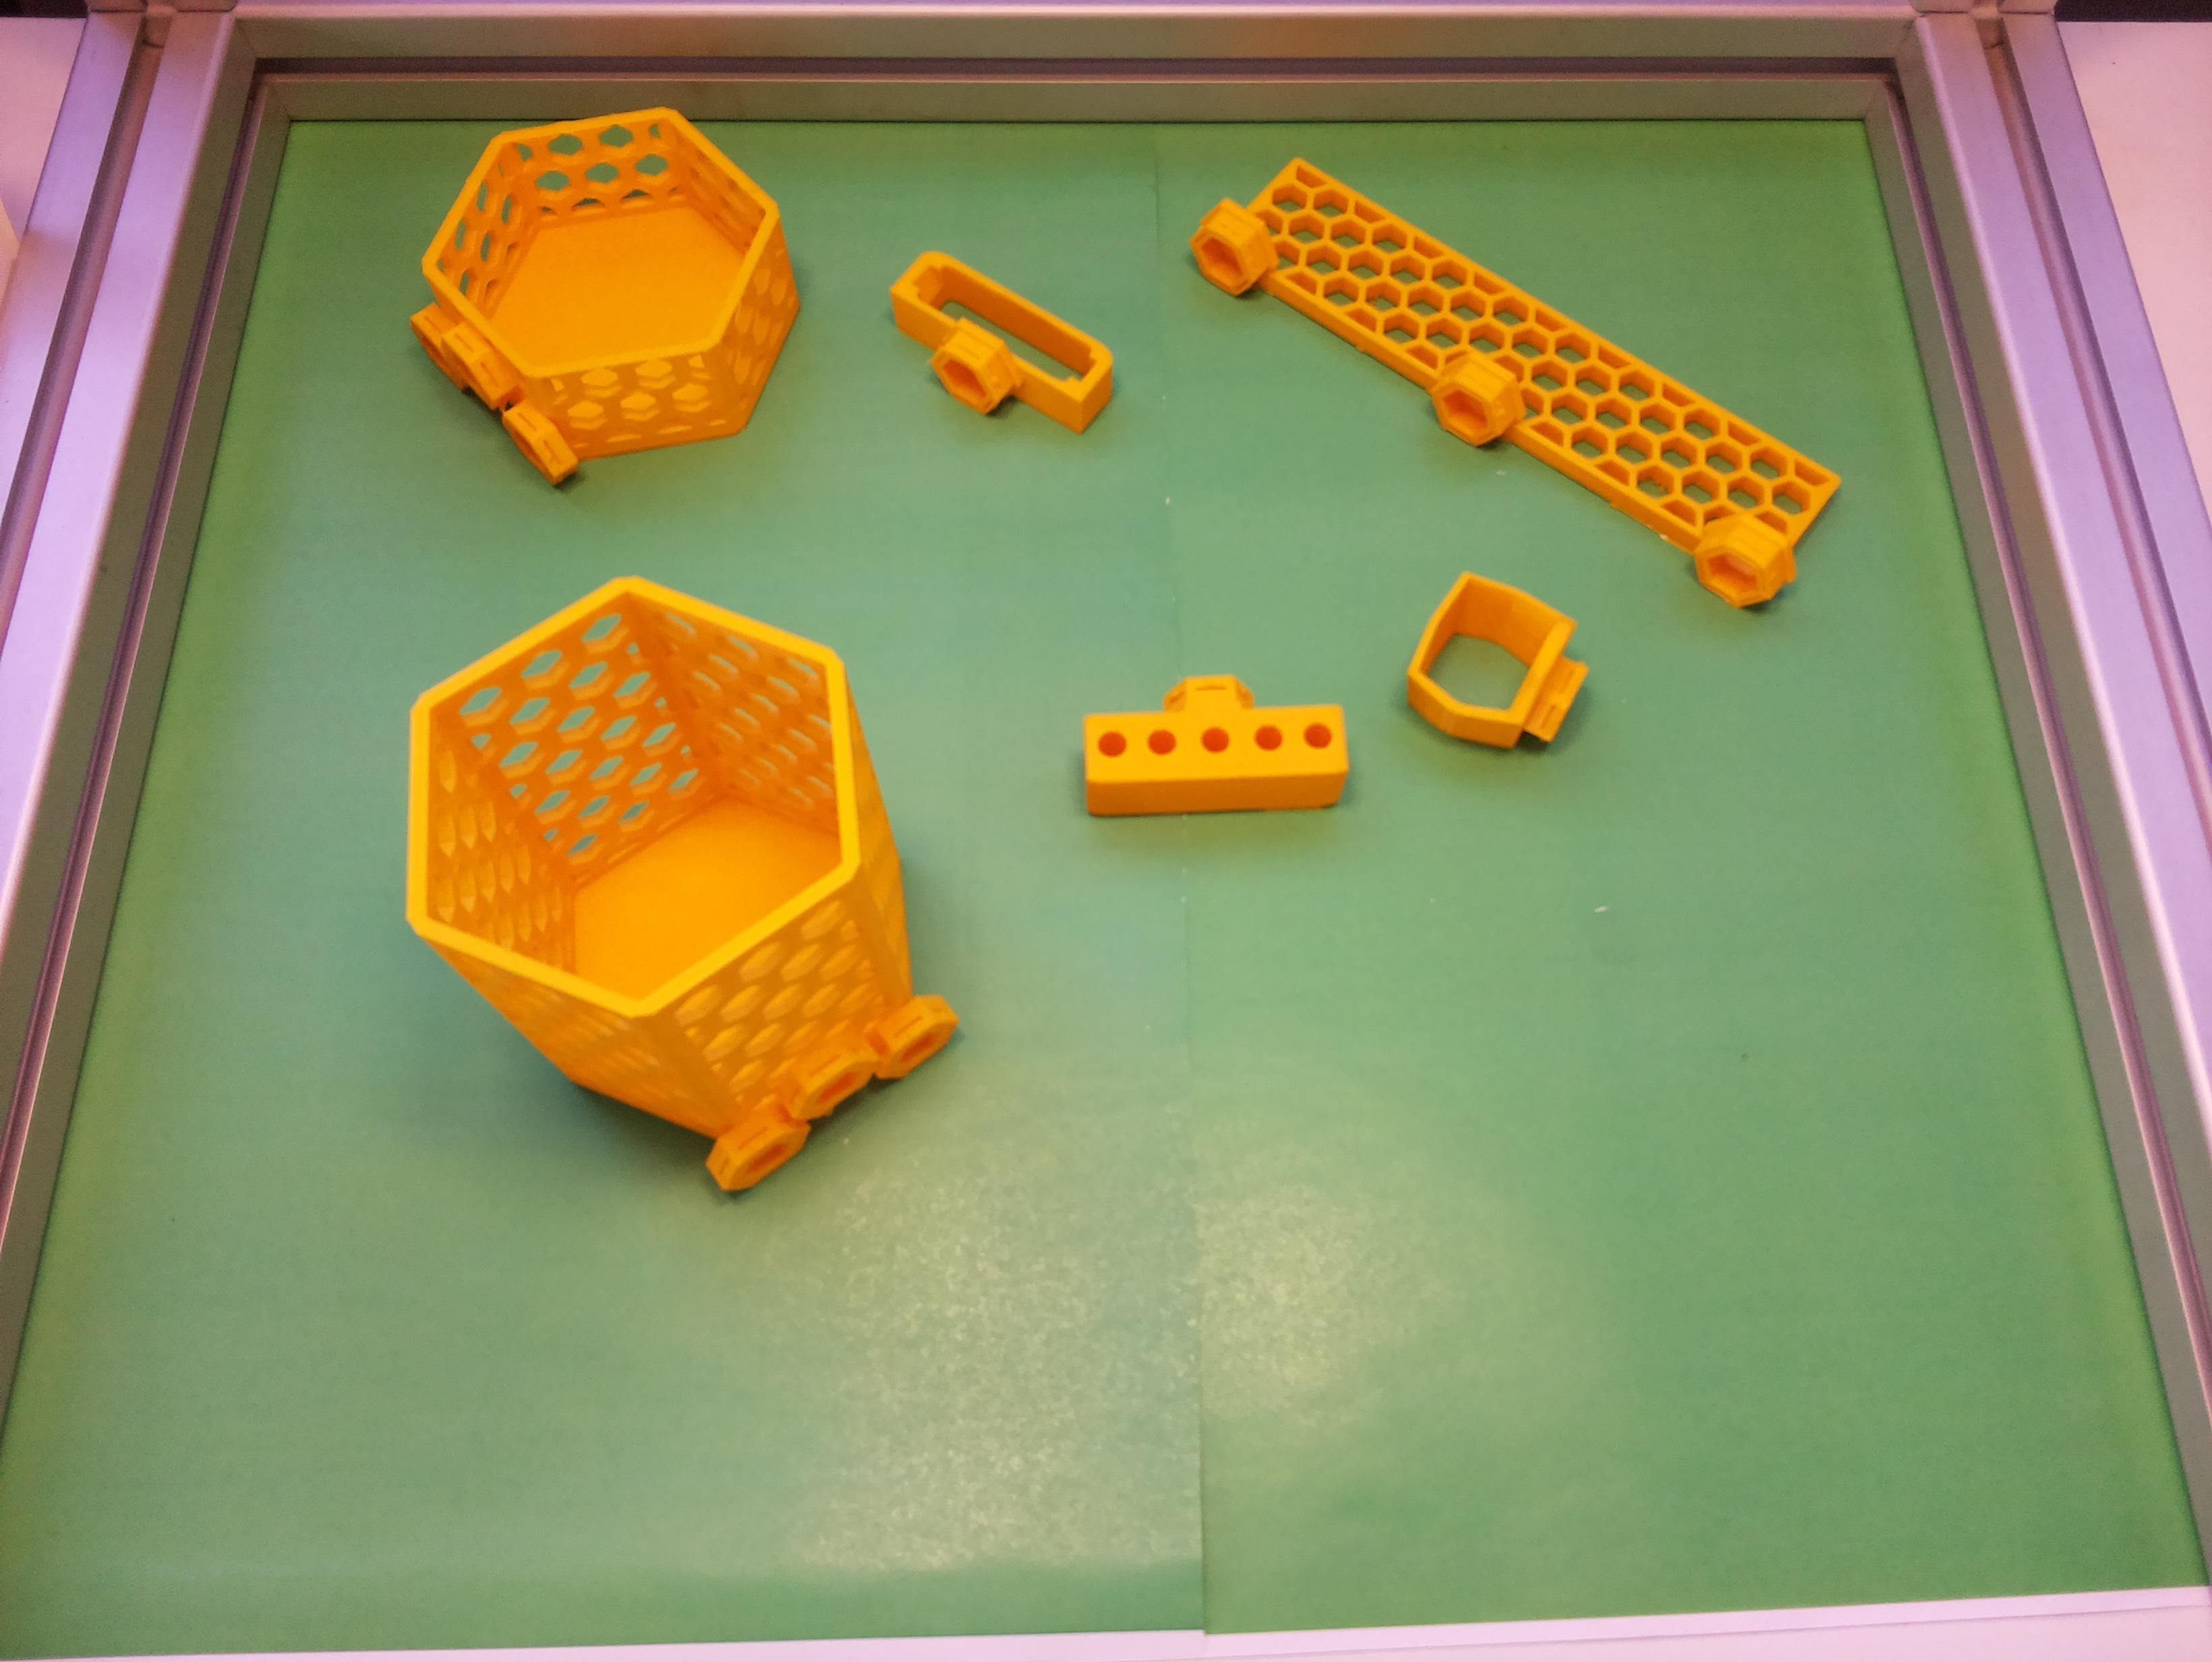bit_holder: (1082, 670, 1350, 817)
bottle_holder: (370, 68, 833, 510)
cup_holder: (306, 484, 1060, 1257)
cutter_holder: (859, 237, 1131, 466)
scissor_holder: (1388, 560, 1606, 777)
tool_holder: (1170, 131, 1851, 625)
